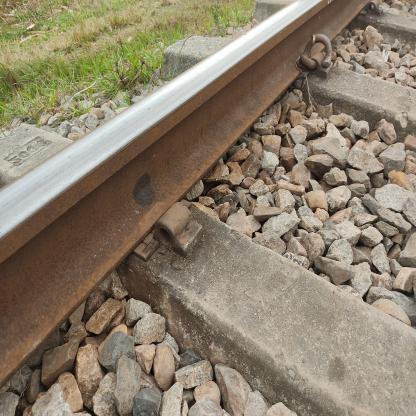Defective: (134, 185, 218, 291)
